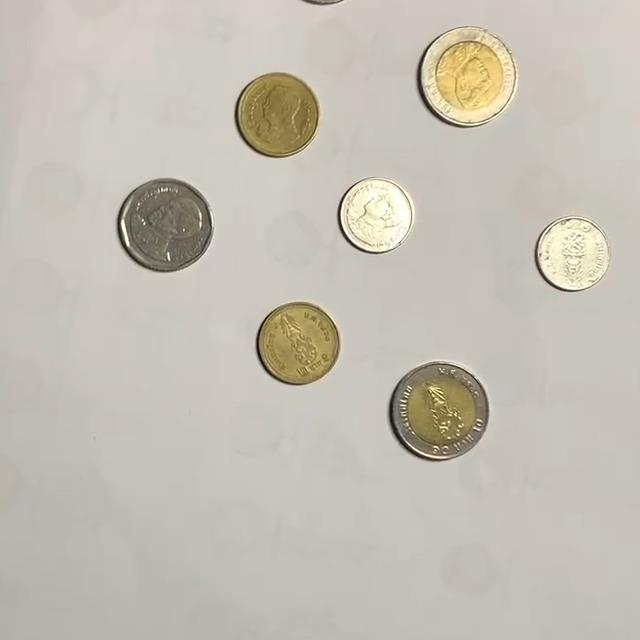1-baht: (535, 216, 614, 293), (339, 177, 417, 254)
10-baht: (390, 363, 492, 461), (420, 26, 519, 126)
2-baht: (236, 73, 321, 158), (258, 302, 342, 385)
5-baht: (118, 178, 215, 272)
